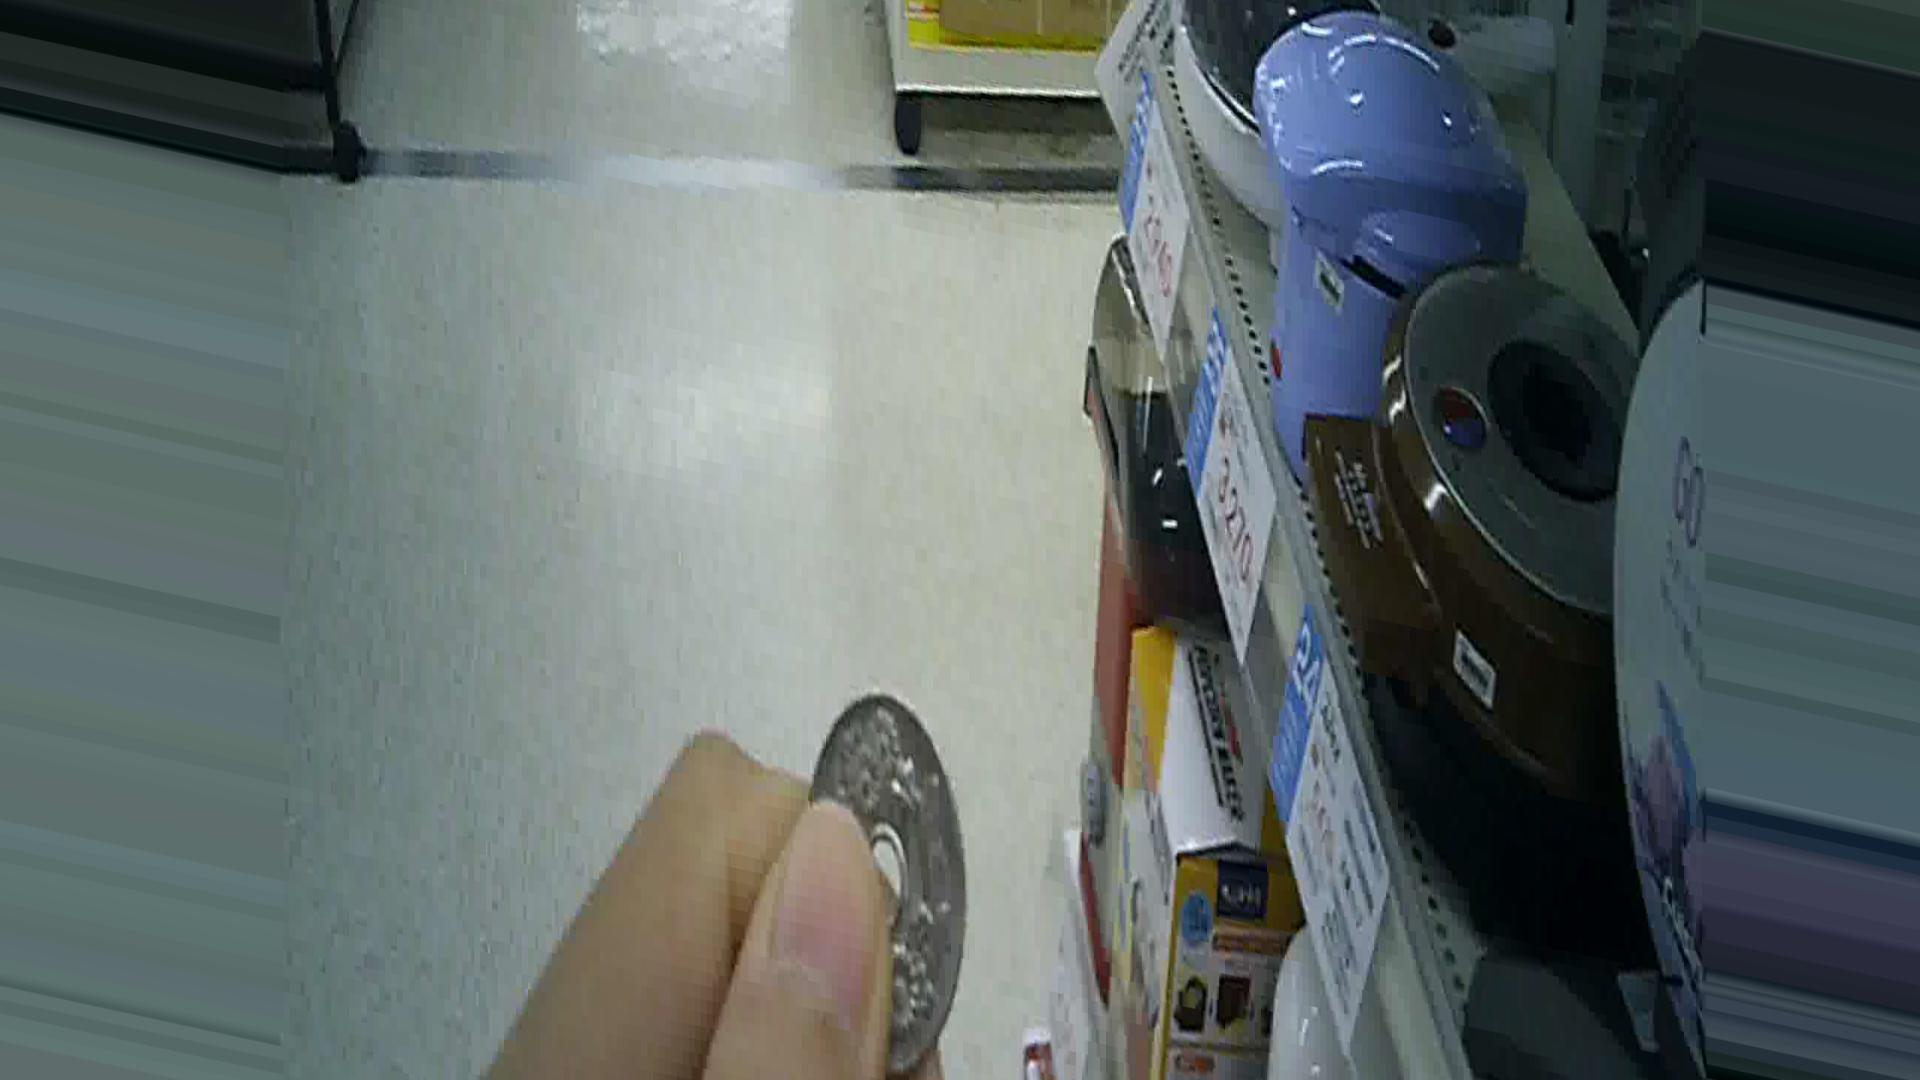50 Yen: (798, 702, 980, 1076)
